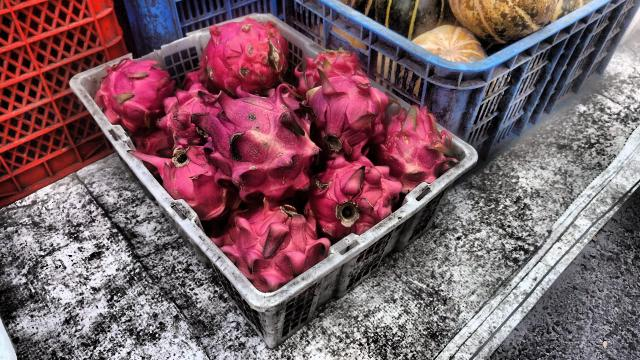buah-naga-belum-matang: (190, 89, 322, 195)
buah-naga-matang: (132, 134, 248, 224), (301, 60, 389, 156), (210, 211, 334, 279), (304, 158, 408, 224), (375, 107, 453, 187), (200, 23, 288, 91), (86, 61, 174, 123)
